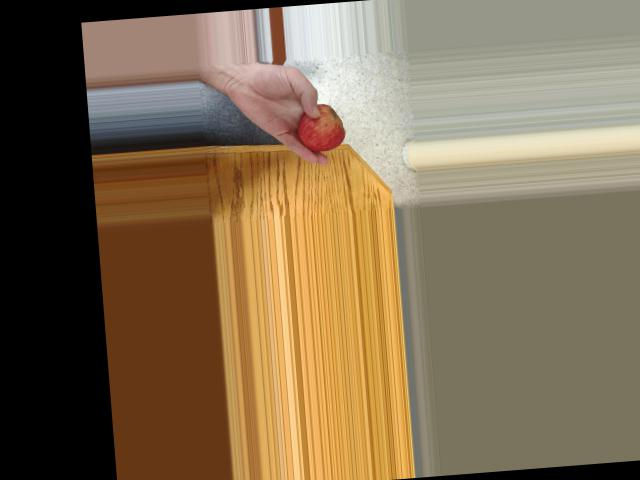apple: (285, 99, 349, 155)
